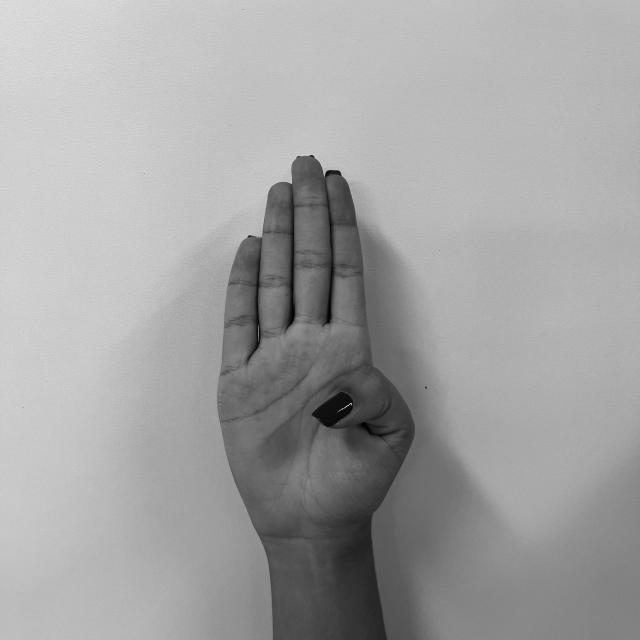Letra B: (208, 147, 422, 538)
